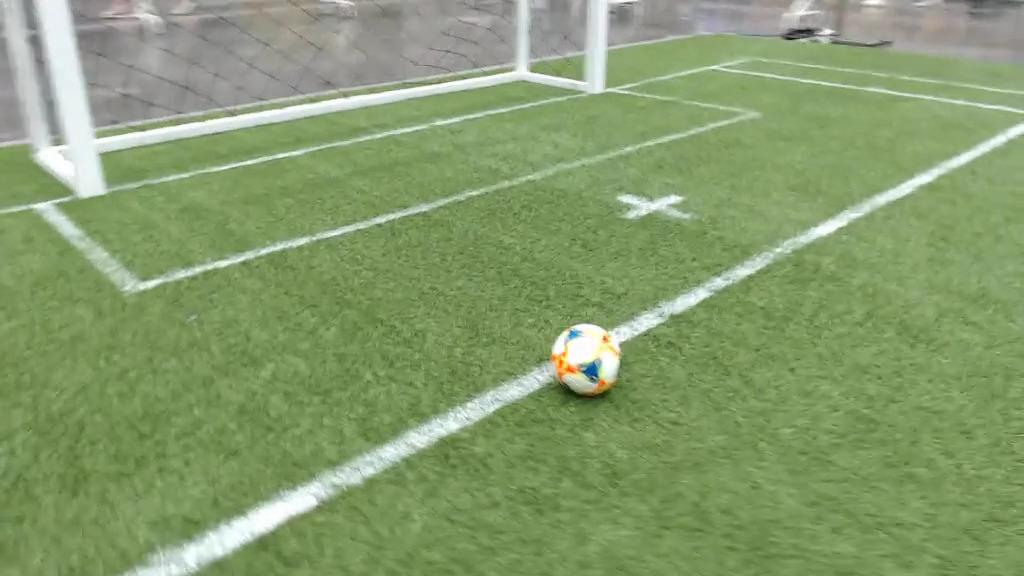ball: (553, 324, 621, 396)
